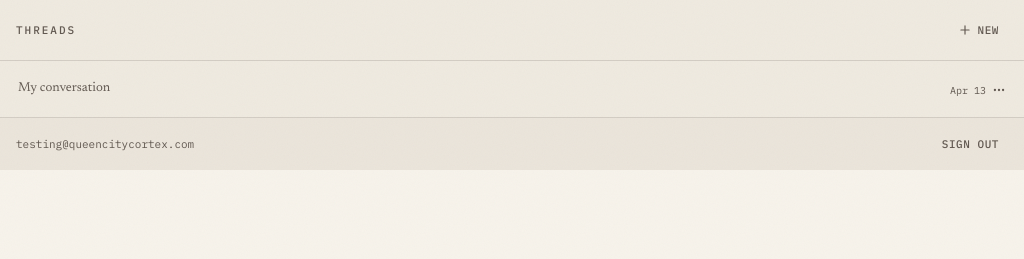
Test: ThreadSidebar › export of a thread longer than one page › writes no file and says so when a page fails
The width and height of the screenshot is (1024, 259).
Click the button named "Thread actions for My conversation".
click(999, 90)  # box [990,81,1008,99]
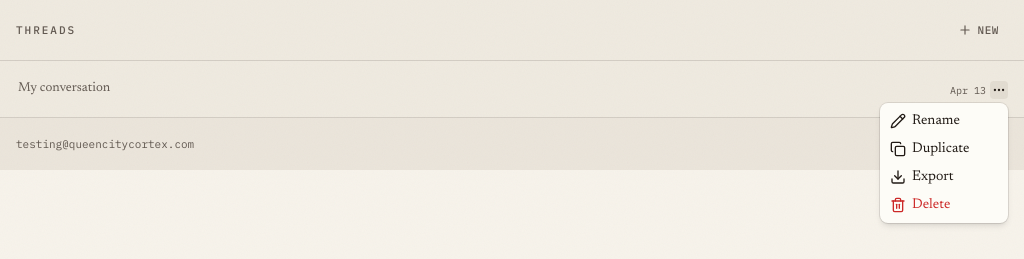
Click the menu item with test id "thread-export".
click(922, 177)  # box [890,169,954,185]
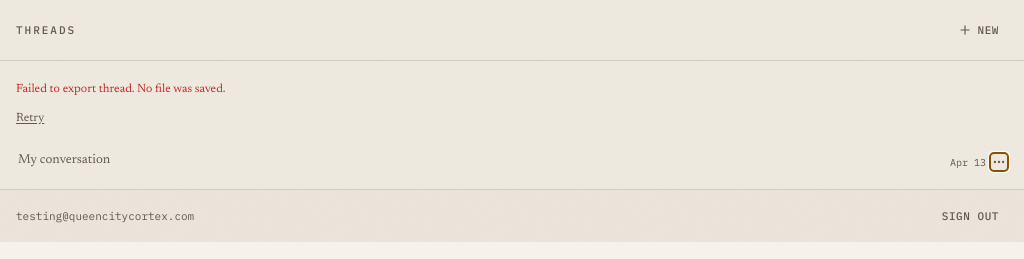
Now the text "Failed to export thread. No file was saved." is shown, box [16,83,226,95]
